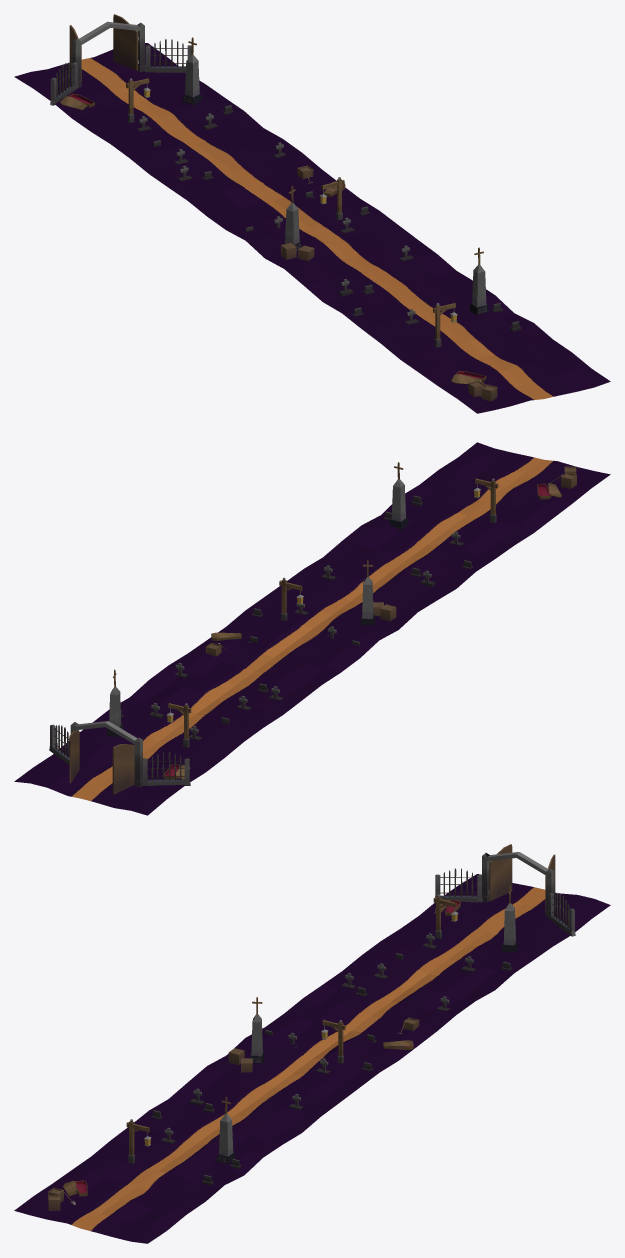
Rendered from cenario3.fbx.
3 views of the same model, one above another, from view 1: azimuth 30°, elevation 25°; view 2: azimuth 150°, elevation 25°; view 3: azimuth 330°, elevation 25° (orthographic).
Visible parts, largest first — view 1: caixa1.001; view 2: caixa1.001; view 3: caixa1.001.
Part boxes in pixels (left/top/right/bottom): caixa1.001: left=14, top=14, right=610, bottom=413; caixa1.001: left=14, top=442, right=610, bottom=815; caixa1.001: left=14, top=844, right=610, bottom=1243.
Bounding box in the file's own units: 1064 × 490 × 6000.
